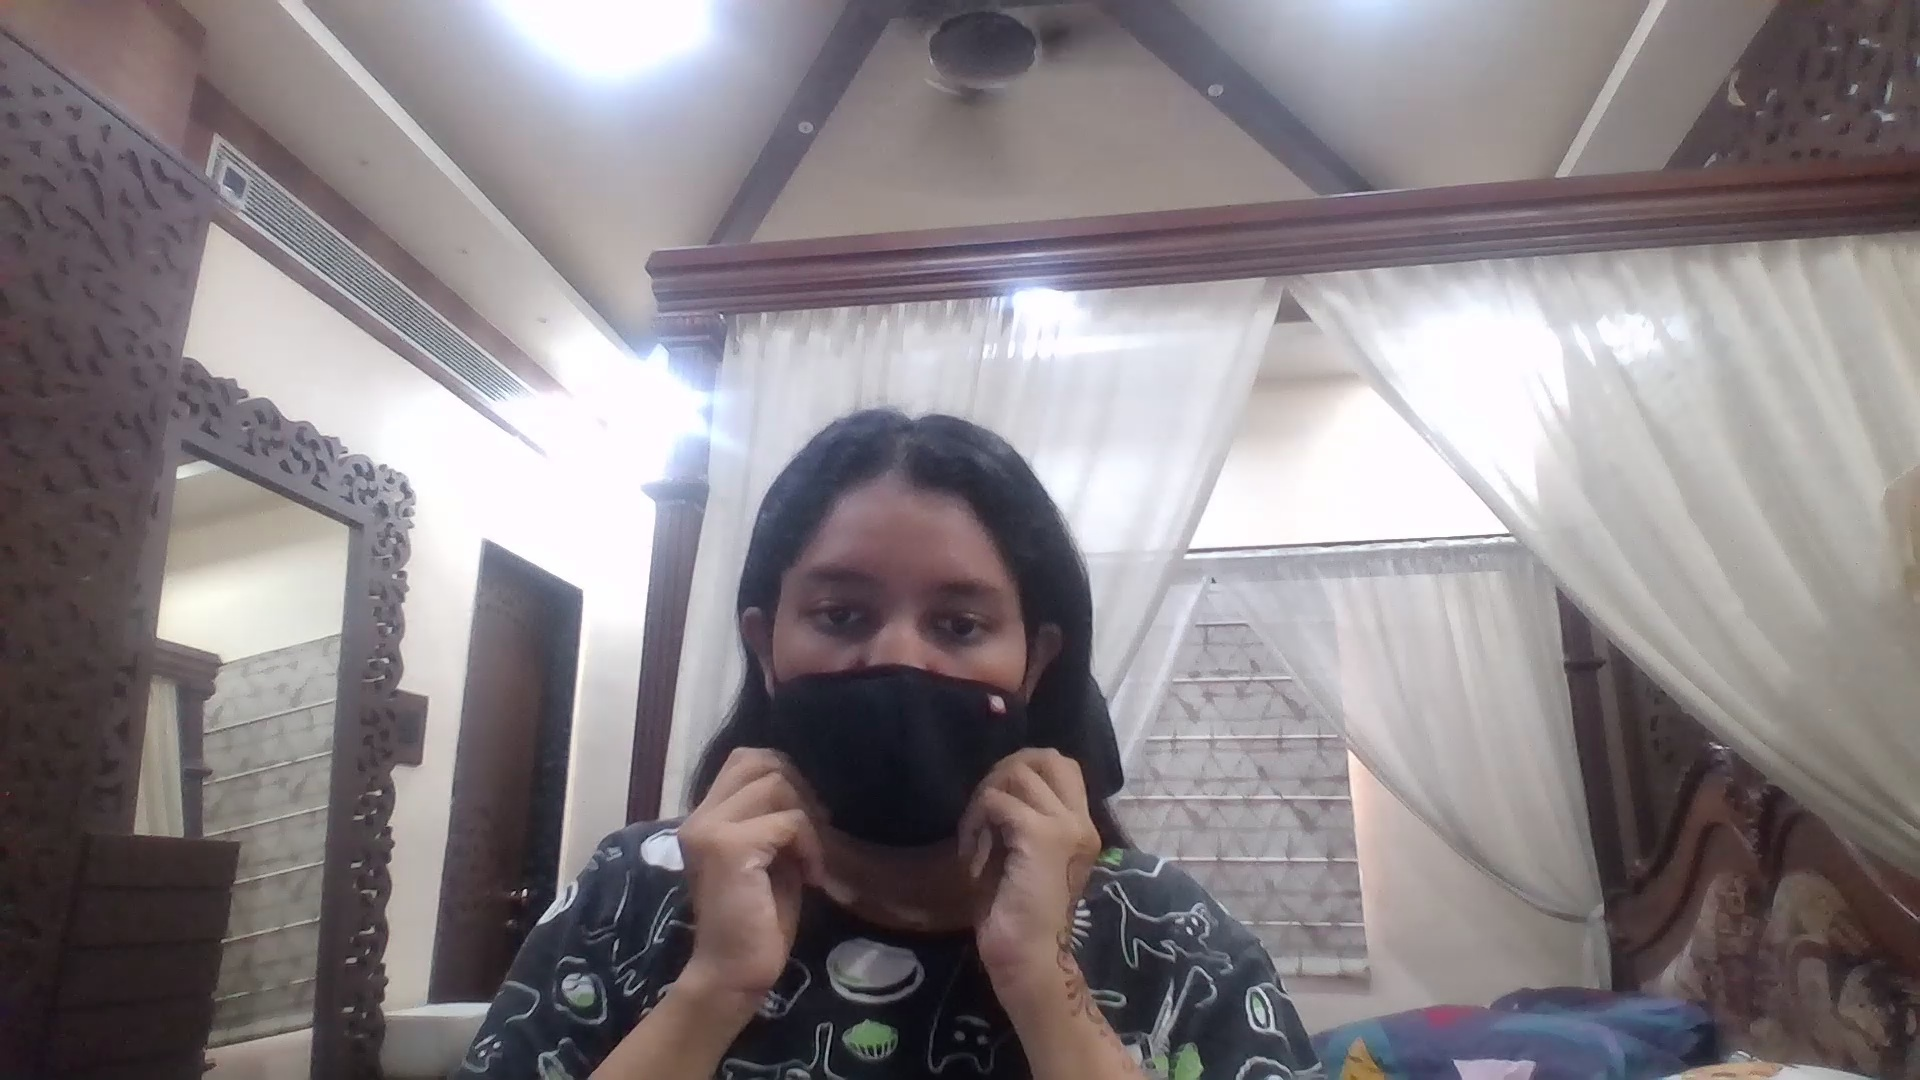Mask: (781, 667, 1023, 827)
